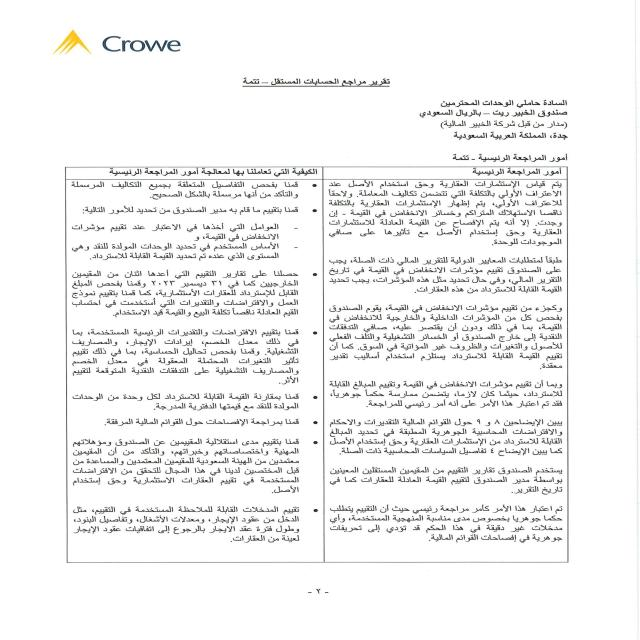auditor_report: (217, 67, 414, 100)
